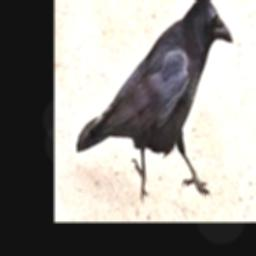Crow: (76, 0, 233, 200)
